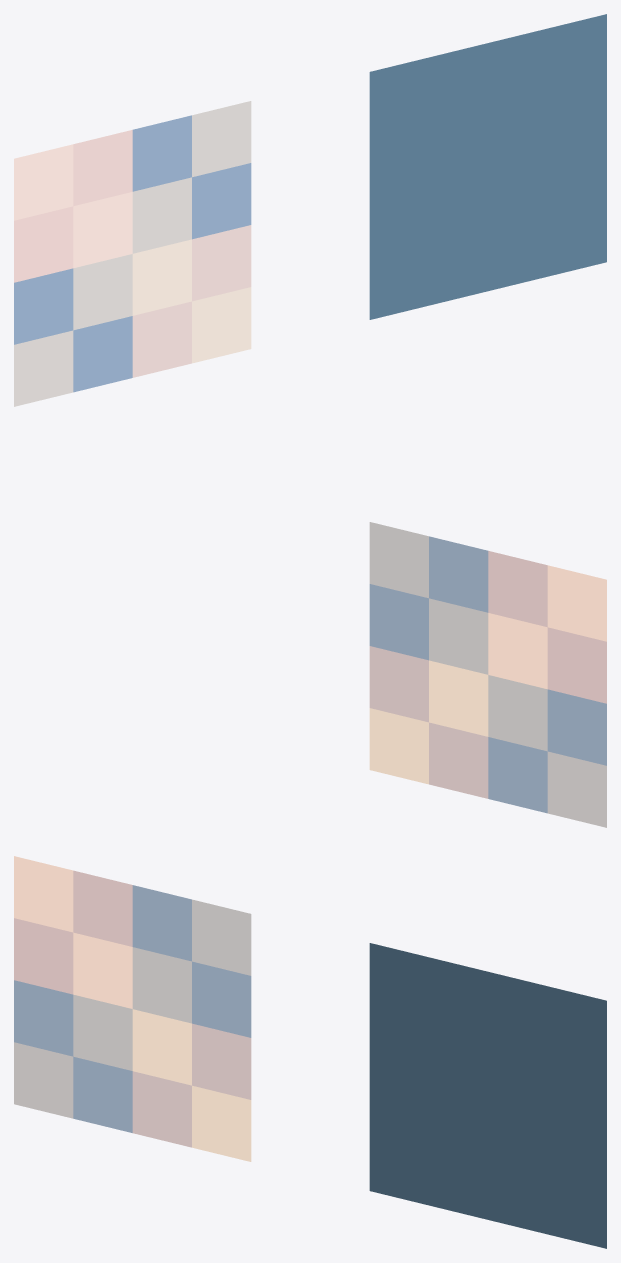
File: tesseract_pbr_mesh.glb
The picture shows the model from 3 angles, top to bottom: view 1: azimuth 30°, elevation 25°; view 2: azimuth 150°, elevation 25°; view 3: azimuth 330°, elevation 25°; orthographic projection.
Parts seen in each view (by area): view 1: pbr_mask, pbr_full; view 2: pbr_full; view 3: pbr_mask, pbr_full.
Boxes of the visible parts, box(x1,y1,x2,y2) form: pbr_mask: box(369, 14, 606, 319); pbr_full: box(14, 101, 251, 406); pbr_full: box(369, 522, 606, 827); pbr_mask: box(369, 943, 606, 1248); pbr_full: box(14, 856, 251, 1161).
Bounding box in the file's own units: 2.5 × 1 × 0.
2 materials, 1 textured.
